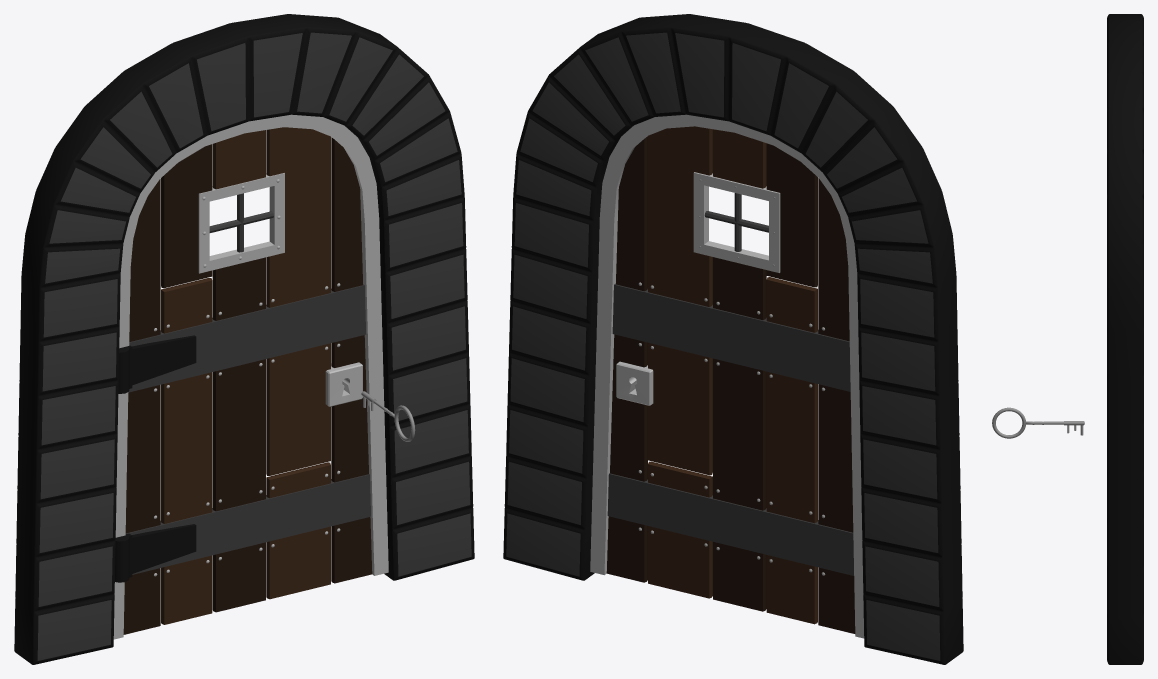
The model's file is CloseDoor.FBX.
3 views of the same model, side by side, from view 1: azimuth 30°, elevation 25°; view 2: azimuth 150°, elevation 25°; view 3: azimuth 270°, elevation 25° (orthographic). The views are drawn at different scales.
Parts seen in each view (by area): view 1: Дверной проем001, Дверь с замком!; view 2: Дверной проем001, Дверь с замком!; view 3: Дверной проем001, Ключ от двери.
Part boxes in pixels (x1,y1,x2,y2): Дверной проем001: (14, 14, 474, 664); Дверь с замком!: (113, 114, 388, 639); Дверной проем001: (503, 14, 963, 664); Дверь с замком!: (590, 114, 864, 638); Дверной проем001: (1107, 14, 1143, 664); Ключ от двери: (992, 407, 1084, 438).
Bounding box in the file's own units: 437 × 548 × 143.
